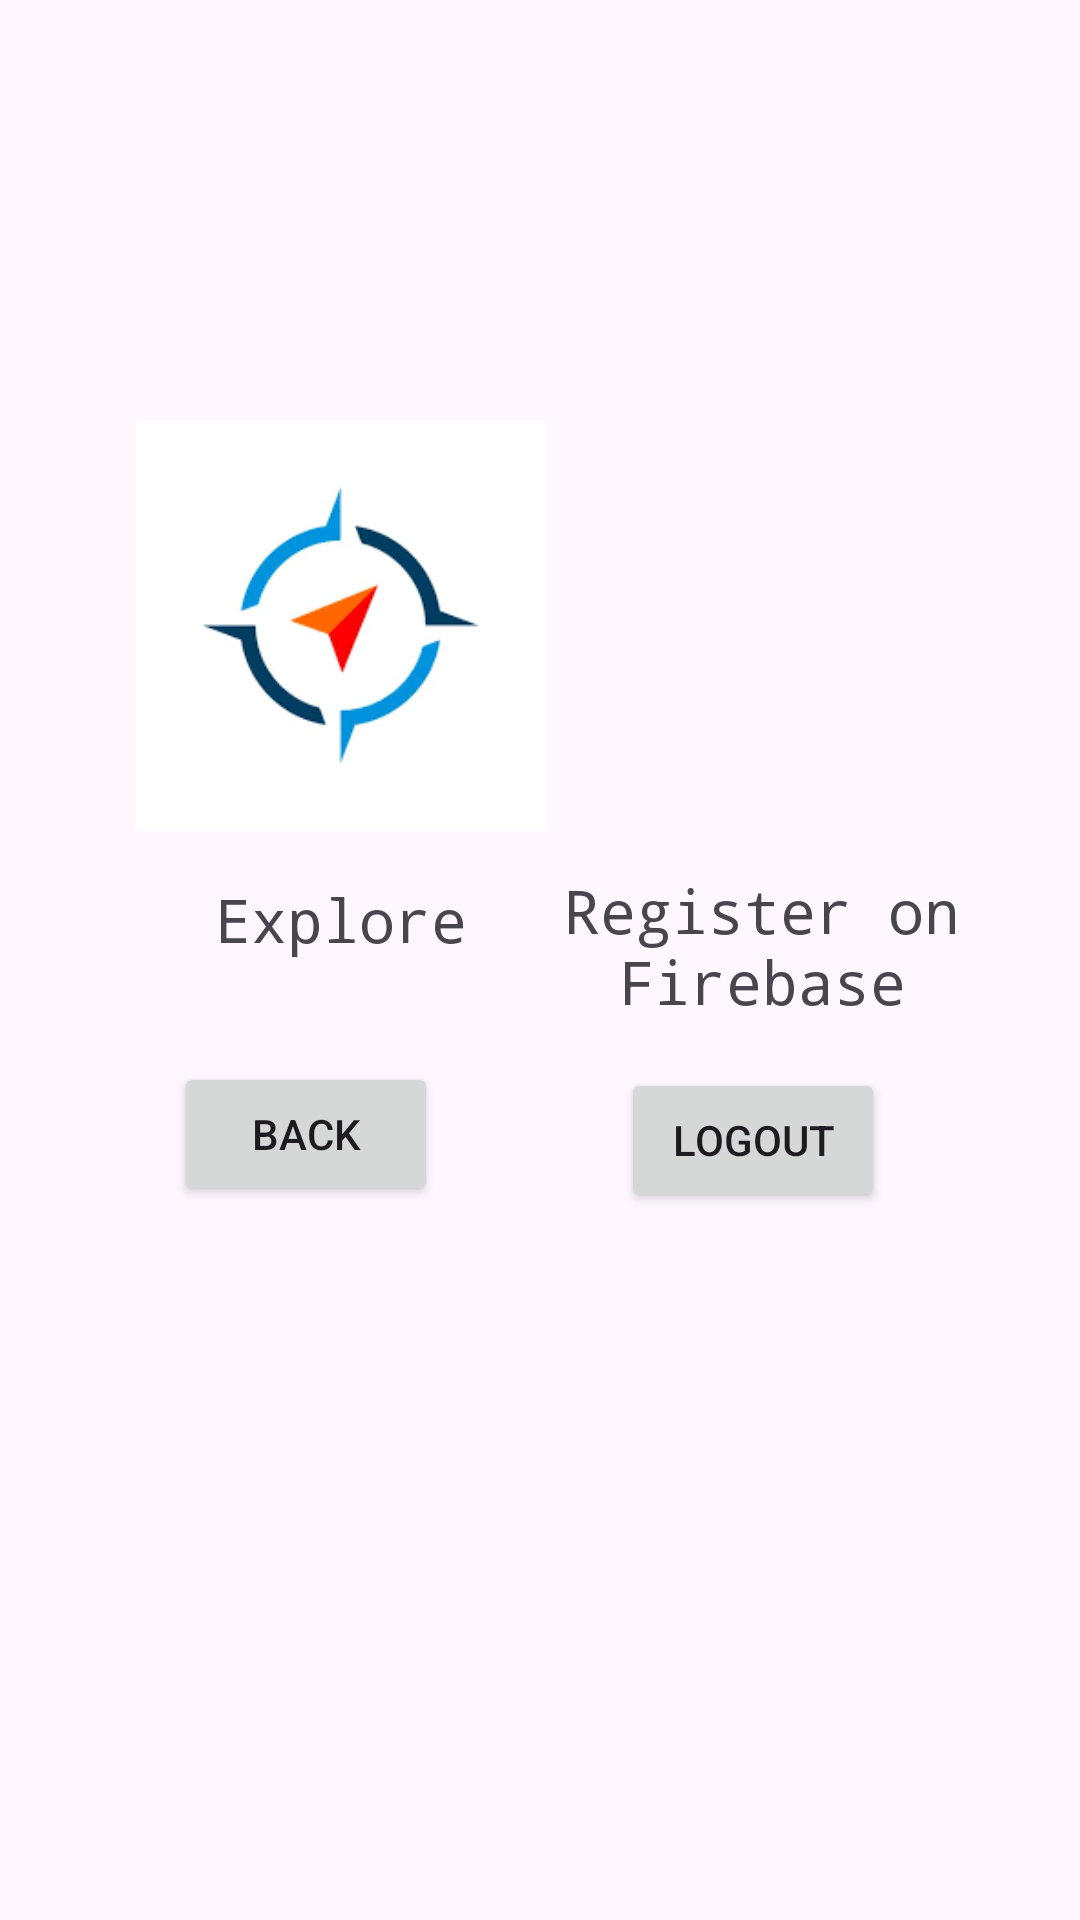

Locate icon controls on the screen. Image size 1080*1920, boxes as (left=x1, top=y1, right=x2, bottom=y2).
exp: (left=203, top=488, right=479, bottom=763)
